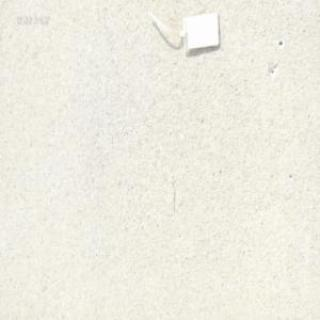LuggageTagtrack_idkeyframe: (143, 6, 221, 56)
